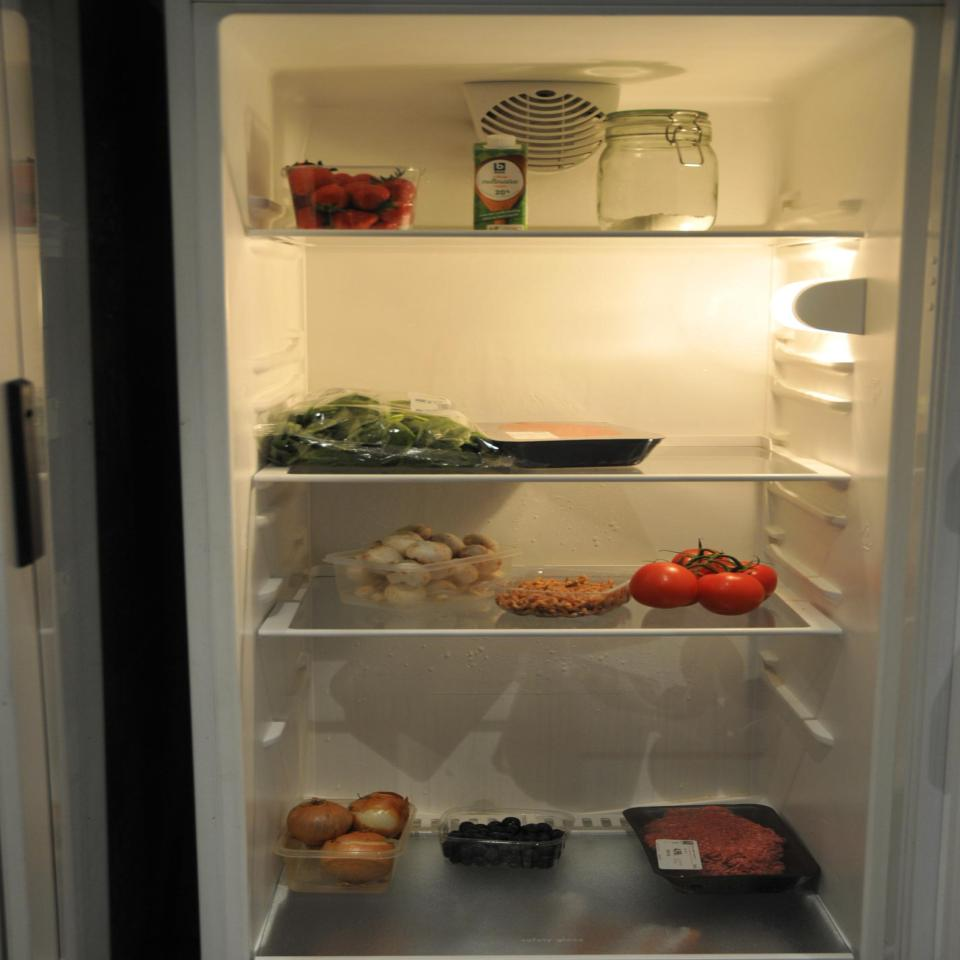Tomate: (627, 539, 787, 618)
